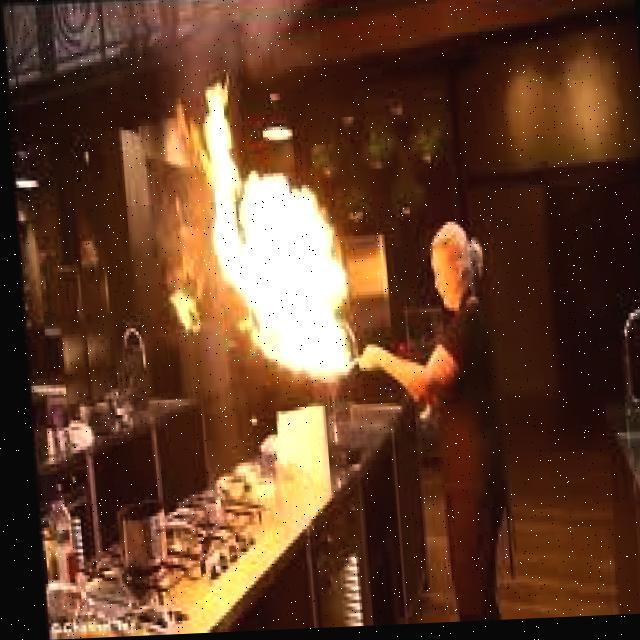Fire: (166, 79, 401, 390)
